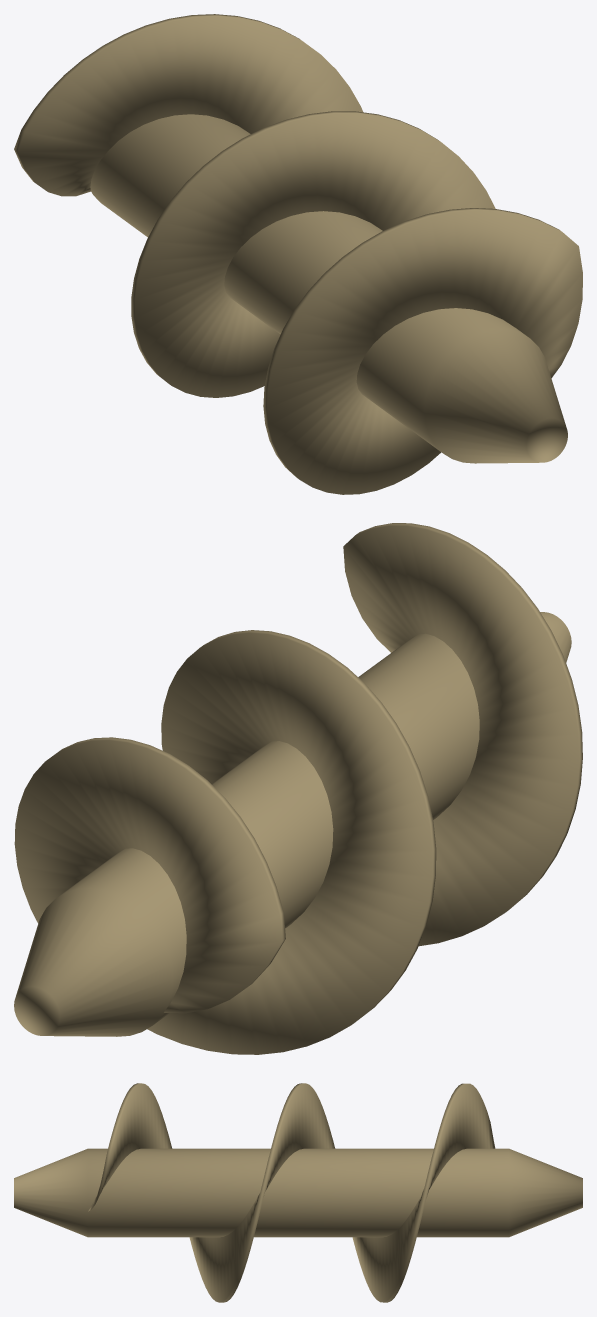
The model's file is screw_drum_deep.glb.
3 renders of one model, top to bottom at view 1: azimuth 30°, elevation 25°; view 2: azimuth 150°, elevation 25°; view 3: azimuth 270°, elevation 25°, orthographic. The views are drawn at different scales.
Parts seen in each view (by area): view 1: screw_drum_deep; view 2: screw_drum_deep; view 3: screw_drum_deep.
Part boxes in pixels (x1,y1,x2,y2): screw_drum_deep: (14,14,582,494); screw_drum_deep: (14,523,582,1054); screw_drum_deep: (14,1083,582,1302).
Size of the model in its own units: 0.7396 by 0.7397 by 1.92.
